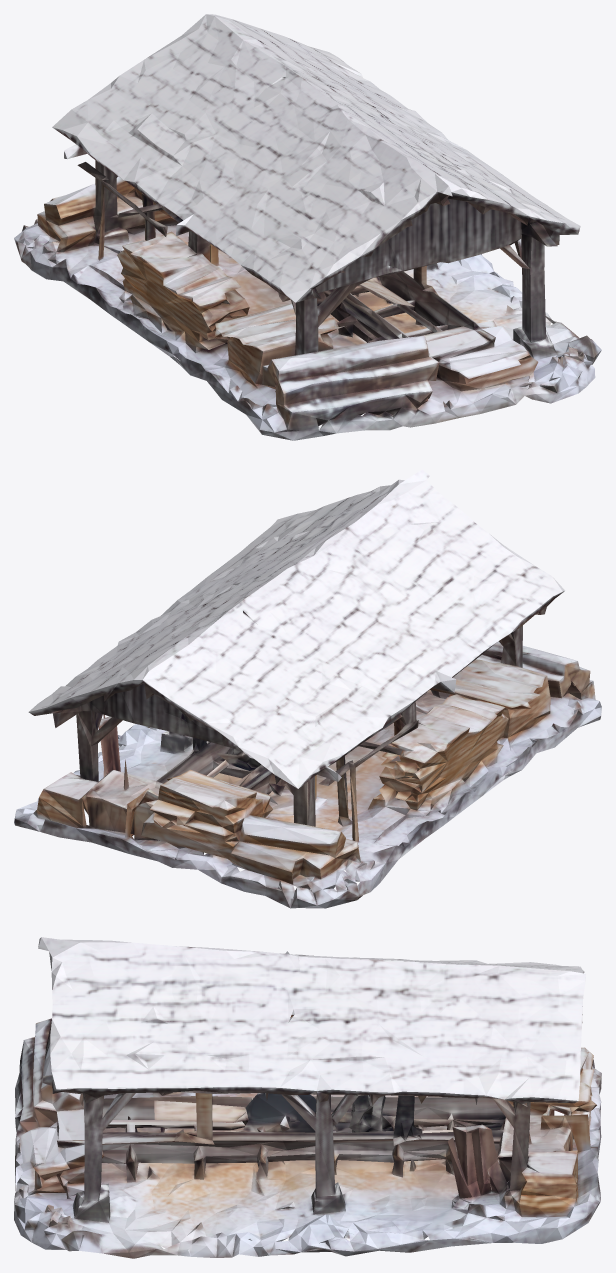
Rendered from sawmill.obj.
3 renders of one model, top to bottom at view 1: azimuth 30°, elevation 25°; view 2: azimuth 150°, elevation 25°; view 3: azimuth 270°, elevation 25°, orthographic. The views are drawn at different scales.
Parts seen in each view (by area): view 1: sawmill; view 2: sawmill; view 3: sawmill.
Boxes of the visible parts, x1,y1,x2,y2 form: sawmill: [14, 14, 601, 440]; sawmill: [14, 469, 601, 908]; sawmill: [14, 937, 601, 1258].
Bounding box in the file's own units: 7.28 × 4.47 × 10.
Materials: 1 (1 with a texture image).
